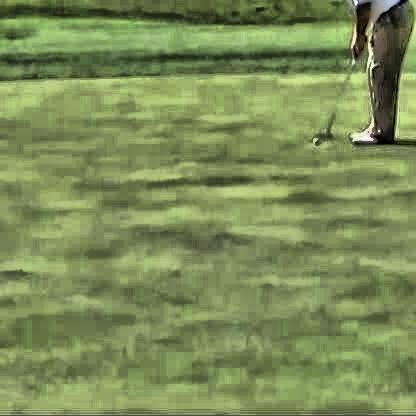golfball: (309, 135, 319, 142)
